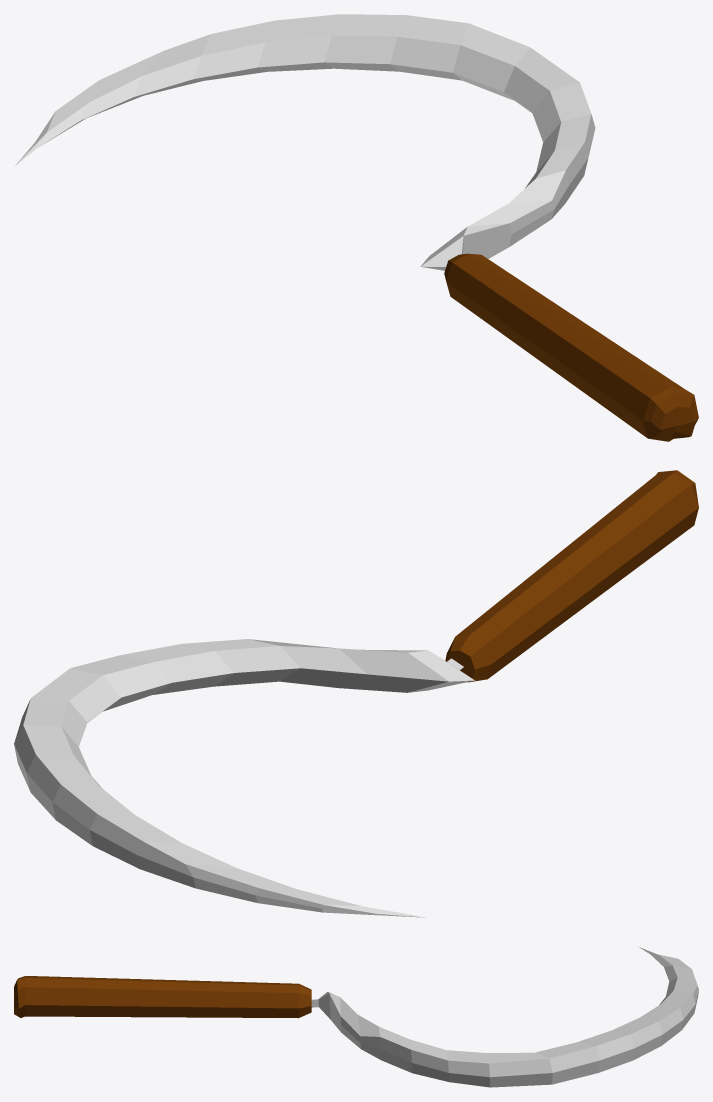
Rendered from sickle.fbx.
3 renders of one model, top to bottom at view 1: azimuth 30°, elevation 25°; view 2: azimuth 150°, elevation 25°; view 3: azimuth 270°, elevation 25°, orthographic. The views are drawn at different scales.
Visible parts, largest first — view 1: Blade, Handle; view 2: Blade, Handle; view 3: Blade, Handle.
Boxes of the visible parts, left/top/right/bottom form: Blade: left=14, top=14, right=595, bottom=270; Handle: left=444, top=253, right=698, bottom=441; Blade: left=14, top=639, right=474, bottom=917; Handle: left=445, top=470, right=698, bottom=682; Blade: left=311, top=947, right=698, bottom=1087; Handle: left=14, top=976, right=311, bottom=1018.
Size of the model in its own units: 66.69 by 8.8 by 125.
